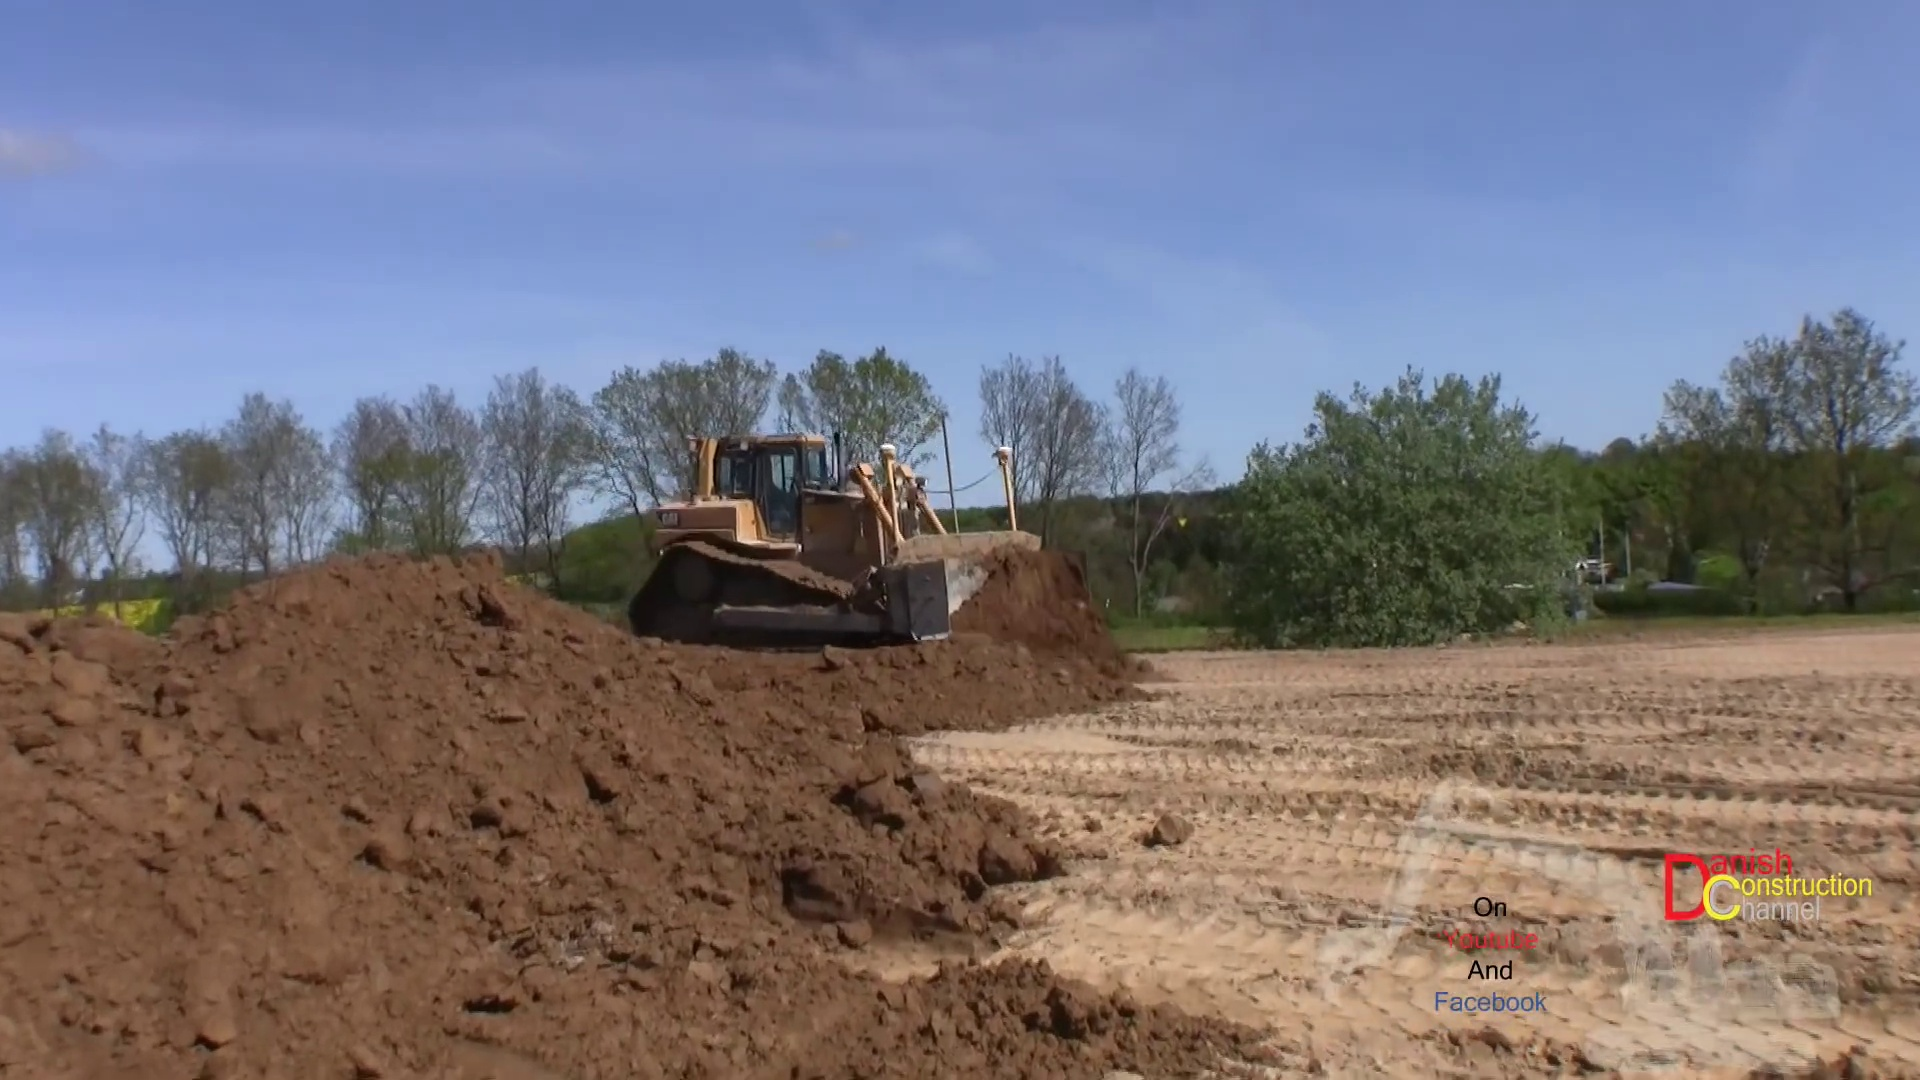bulldozer: (618, 431, 1062, 655)
